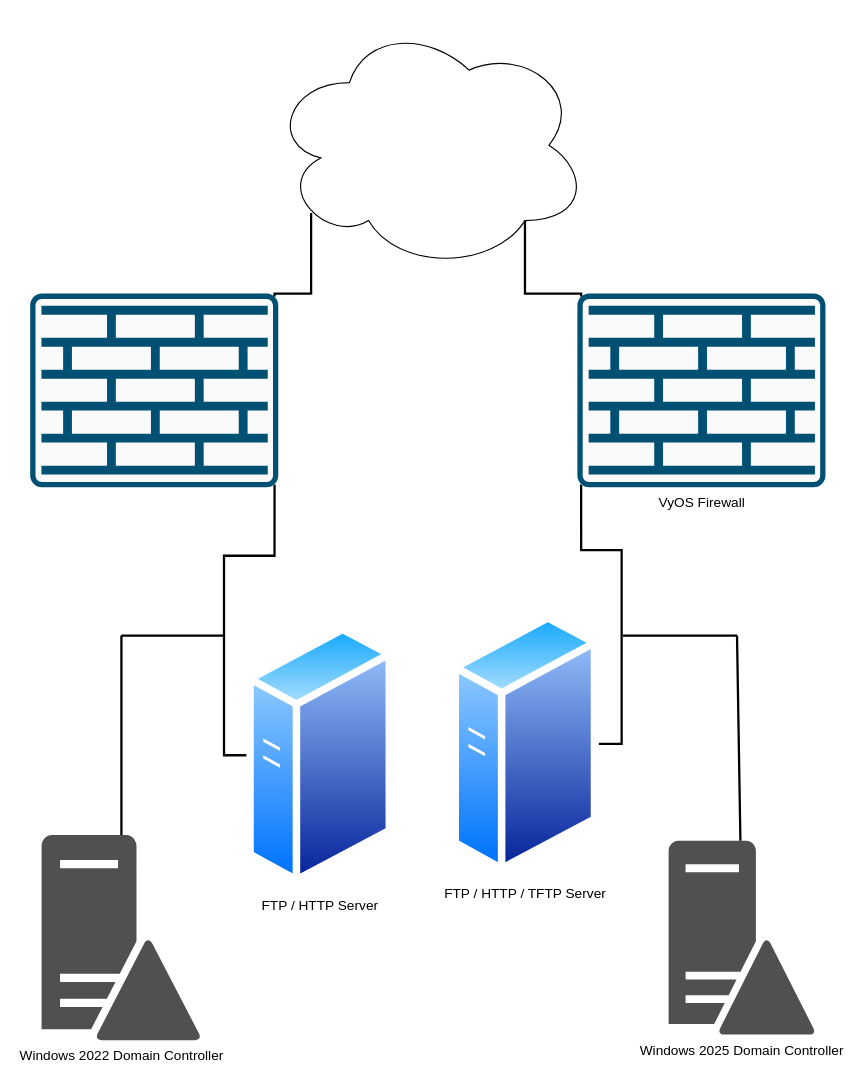
The diagram is 864 pixels wide and 1084 high, and some of its shapes have lost their labels. The shapes that lost their labels are listed below. From the top down, each one's centre as x and y in pixels, then its label:
point (428, 145): CIT-NET via Nutanix Hub
point (153, 389): PfSense Firewall
